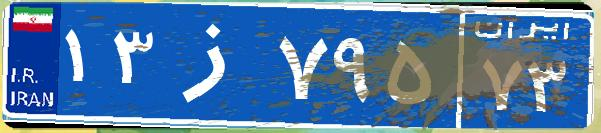1: (57, 26, 110, 107)
3: (110, 28, 158, 105), (525, 38, 570, 115)
5: (385, 28, 445, 110)
7: (273, 28, 330, 110), (475, 38, 525, 113)
9: (330, 28, 385, 110)
ز: (158, 15, 273, 115)
